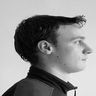ear: (33, 34, 59, 61)
